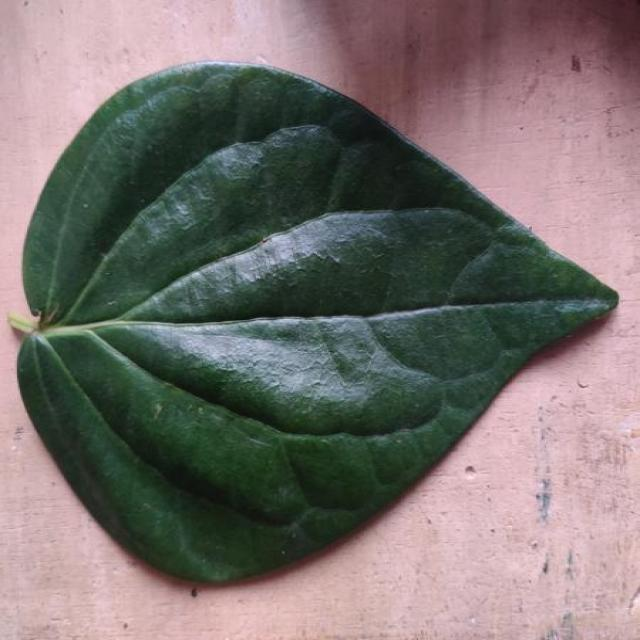betel: (13, 62, 617, 581)
